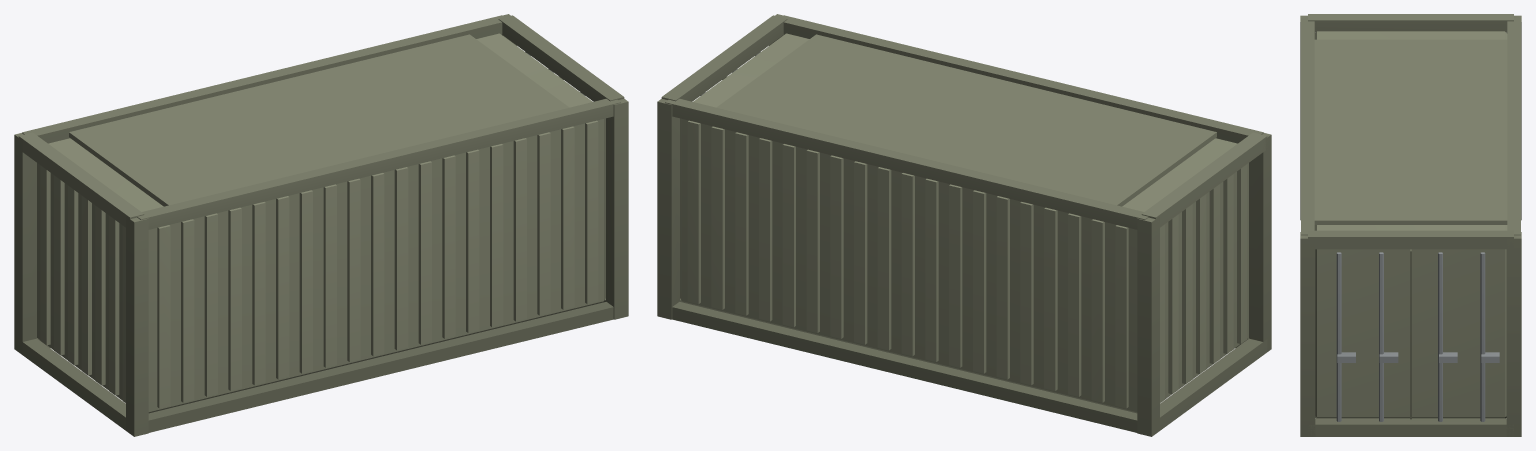
Rendered from mil_container_olive.glb.
3 views of the same model, side by side, from view 1: azimuth 30°, elevation 25°; view 2: azimuth 150°, elevation 25°; view 3: azimuth 270°, elevation 25° (orthographic). The views are drawn at different scales.
Visible parts, largest first — view 1: mil_container_olive; view 2: mil_container_olive; view 3: mil_container_olive.
Boxes of the visible parts, x1,y1,x2,y2 form: mil_container_olive: [14, 14, 628, 436]; mil_container_olive: [657, 14, 1271, 436]; mil_container_olive: [1300, 14, 1521, 436].
Size of the model in its own units: 6.31 by 2.61 by 2.62.
